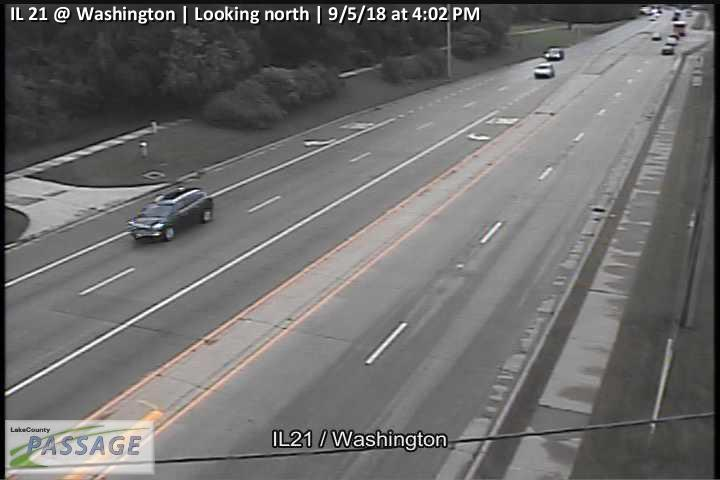SUV: (125, 185, 214, 242)
